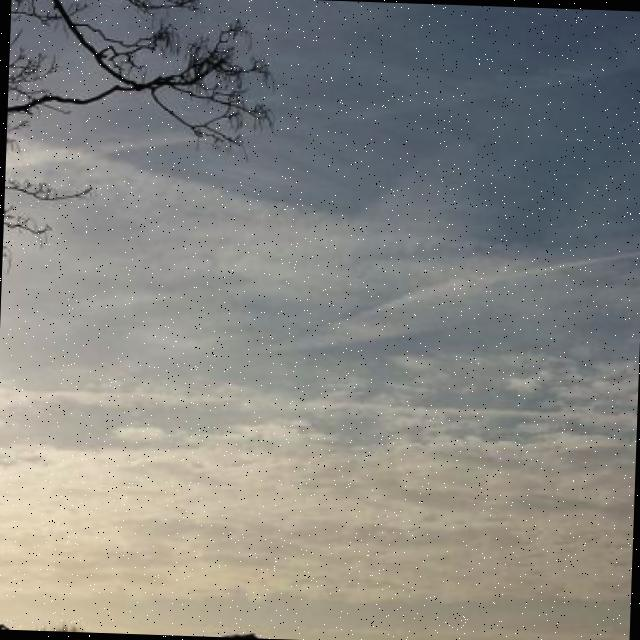Ct: (1, 204, 640, 621)
